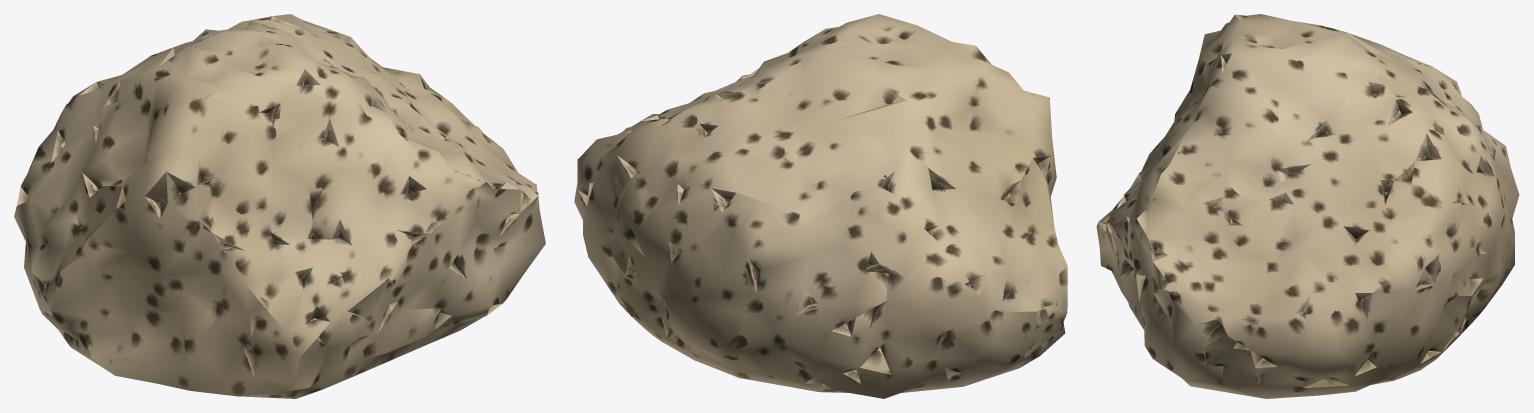
The model's file is roca_coral.fbx.
3 renders of one model, left to right at view 1: azimuth 30°, elevation 25°; view 2: azimuth 150°, elevation 25°; view 3: azimuth 270°, elevation 25°, orthographic. The views are drawn at different scales.
Parts seen in each view (by area): view 1: roca_coral; view 2: roca_coral; view 3: roca_coral.
Boxes of the visible parts, box(x1,y1,x2,y2) form: roca_coral: box(14, 14, 545, 398); roca_coral: box(574, 14, 1067, 398); roca_coral: box(1096, 14, 1519, 398).
Size of the model in its own units: 2.46 by 1.39 by 2.03.
1 material, 1 textured.
